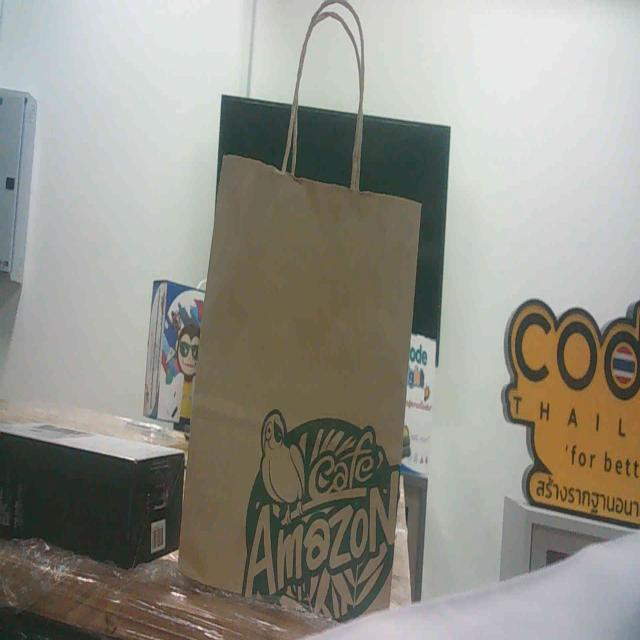bag: (180, 111, 438, 640)
